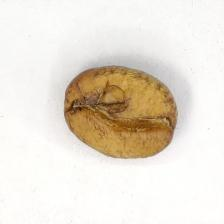NG: (70, 70, 171, 149)
